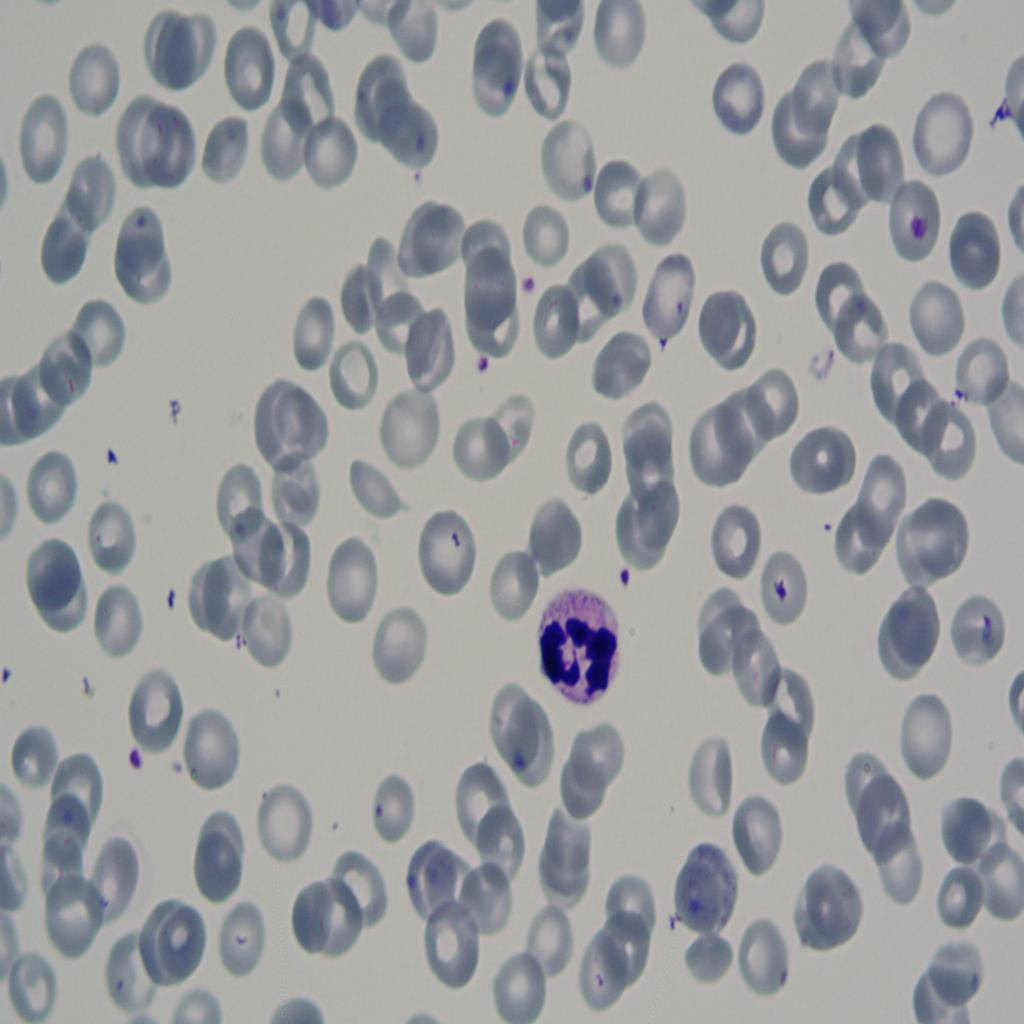Neutrofil: (525, 584, 626, 704)
Platelet: (118, 739, 154, 782), (154, 568, 178, 627), (490, 66, 525, 105), (770, 567, 799, 611), (911, 204, 935, 257), (515, 264, 543, 304), (576, 170, 598, 220), (0, 647, 21, 693), (473, 342, 495, 379), (100, 442, 131, 467), (617, 561, 638, 592)
